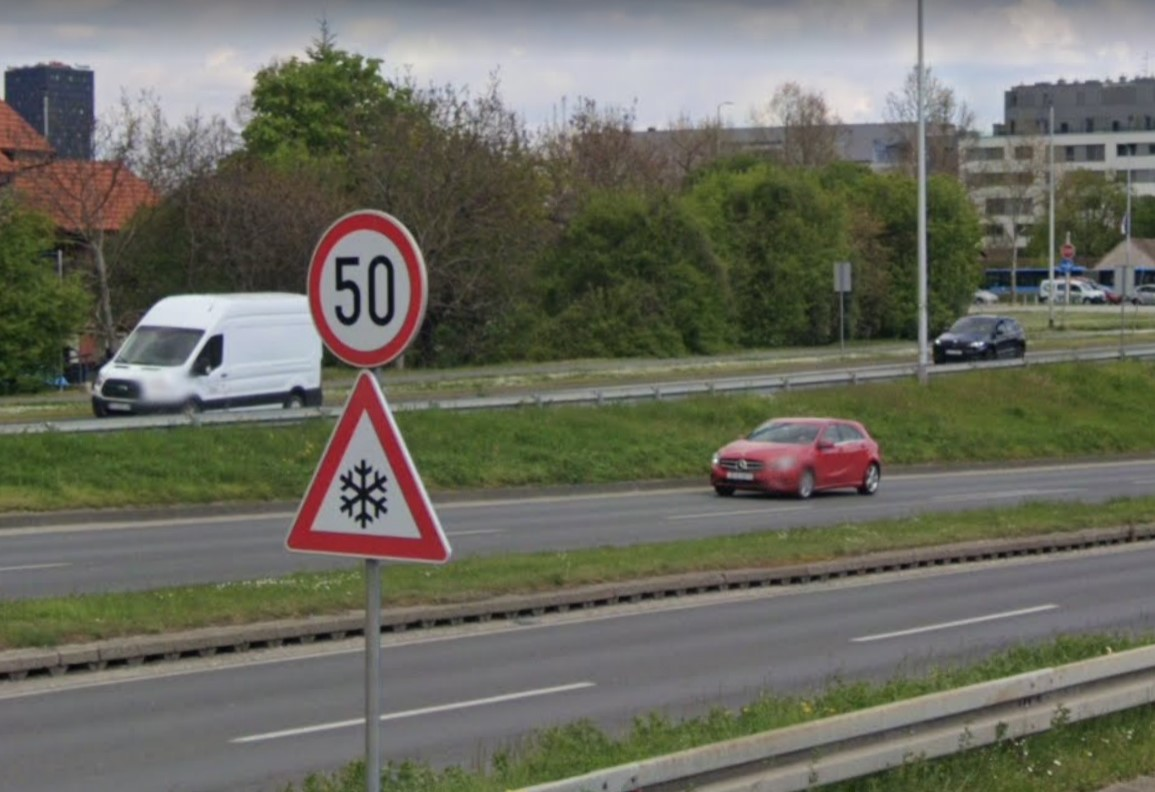Ograničenje brzine 50: (307, 209, 426, 368)
